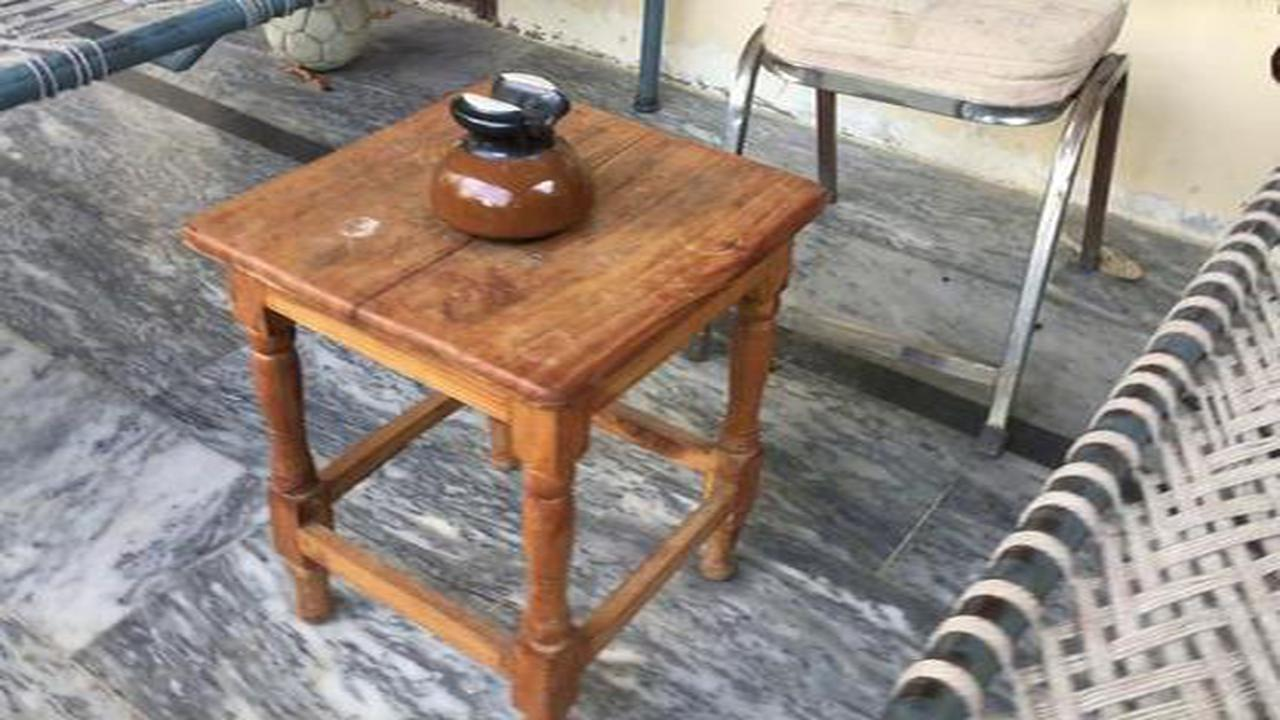insulator_pin: (410, 58, 616, 257)
